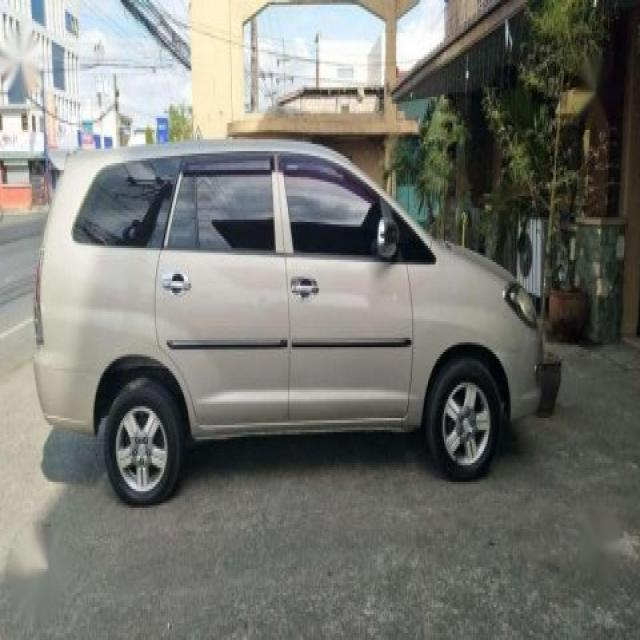light_vehicle: (31, 137, 546, 508)
